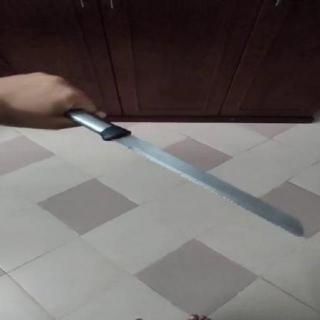knife: (95, 126, 308, 238)
